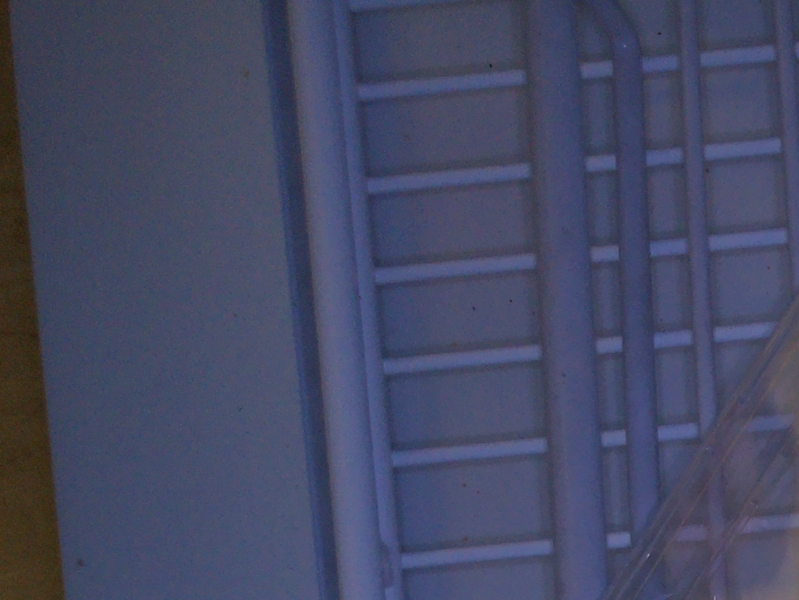plate: (607, 292, 798, 600)
